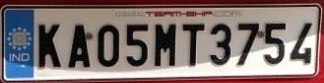character: (37, 22, 63, 68), (67, 23, 90, 69), (96, 24, 120, 67), (153, 22, 175, 67), (125, 23, 148, 66), (182, 23, 205, 66), (236, 21, 259, 64), (263, 21, 286, 64), (210, 23, 231, 65), (291, 23, 312, 65)
